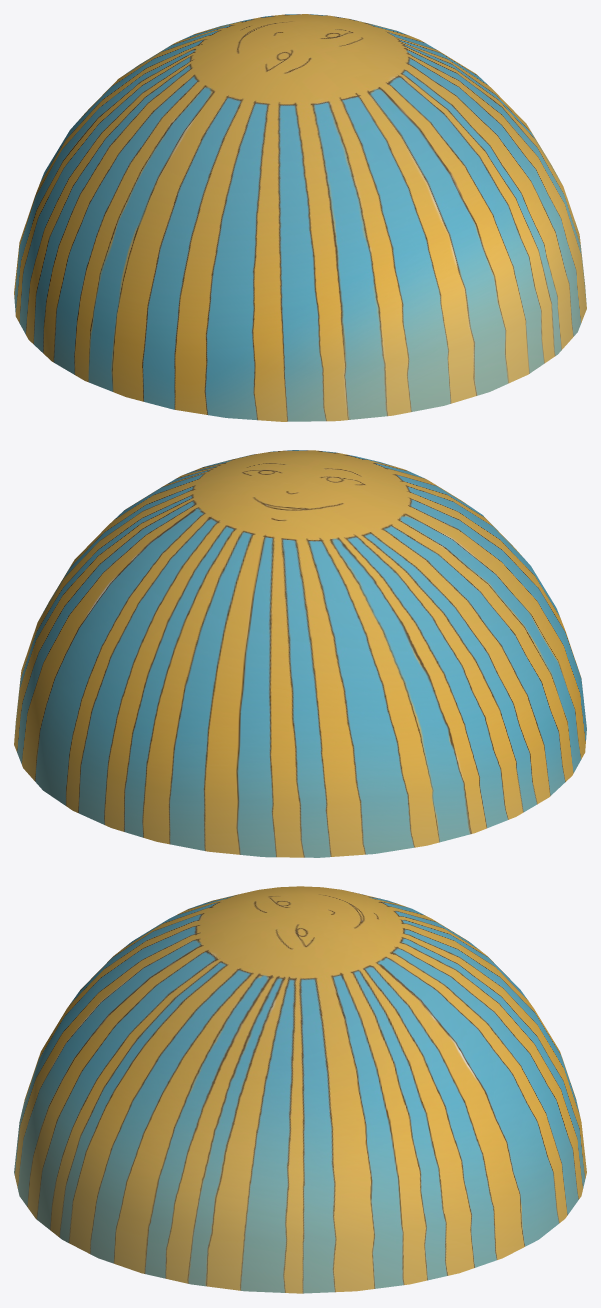
Rendered from texture_dome.glb.
3 views of the same model, one above another, from view 1: azimuth 30°, elevation 25°; view 2: azimuth 150°, elevation 25°; view 3: azimuth 270°, elevation 25° (orthographic).
Visible parts, largest first — view 1: Sphere; view 2: Sphere; view 3: Sphere.
Boxes of the visible parts, x1,y1,x2,y2 form: Sphere: (14, 14, 586, 421); Sphere: (14, 450, 586, 857); Sphere: (14, 886, 586, 1293).
Size of the model in its own units: 2 by 1 by 2.
Materials: 1 (1 with a texture image).
